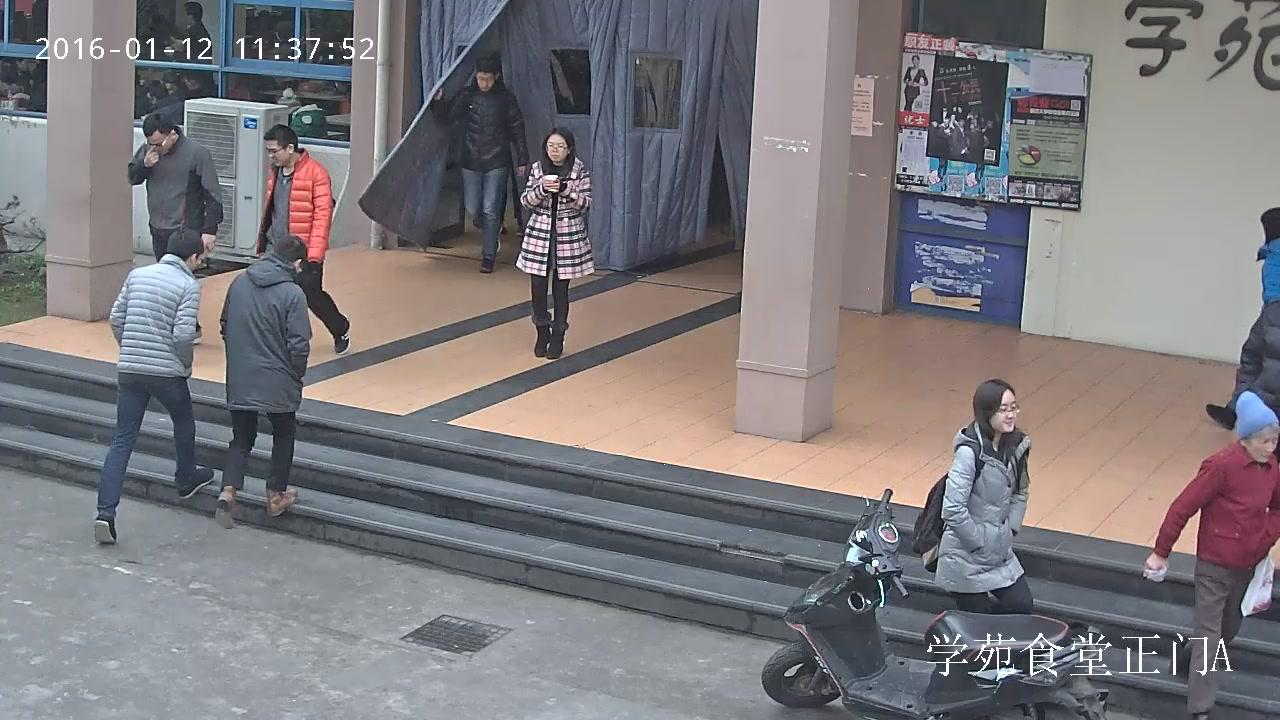person: (1141, 390, 1280, 720), (93, 226, 213, 542), (910, 379, 1036, 612), (215, 235, 311, 529), (254, 124, 351, 354), (127, 111, 222, 345), (431, 58, 527, 276), (516, 126, 591, 360), (1204, 206, 1280, 429), (275, 87, 327, 137), (181, 0, 213, 81), (142, 81, 184, 125), (902, 55, 928, 111)
